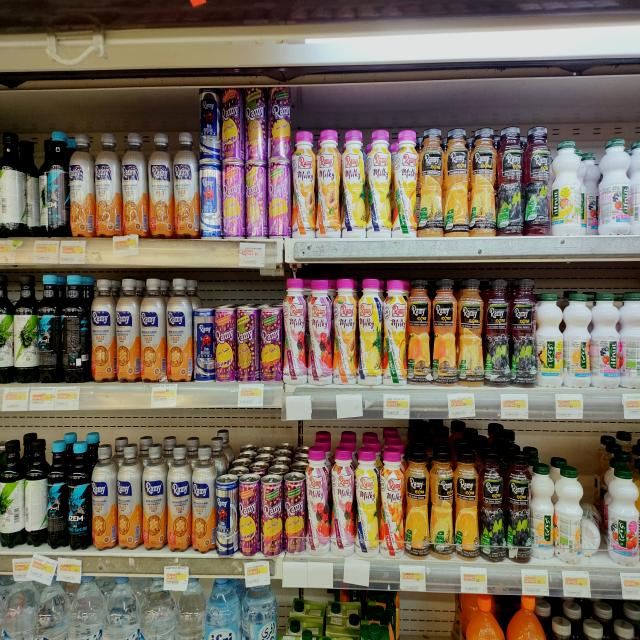CJus Ananas 24 CL: (246, 88, 267, 165), (238, 308, 258, 380), (246, 168, 266, 236)
CJus Orange 24 CL: (225, 90, 244, 167), (239, 477, 258, 554), (216, 308, 236, 381), (224, 167, 245, 236)
CJus mangue 24 CL: (284, 473, 305, 553), (270, 88, 292, 164), (270, 171, 292, 238), (262, 311, 282, 381), (262, 480, 280, 547)
IZEM: (32, 134, 70, 232), (0, 132, 26, 231), (25, 435, 49, 536), (64, 282, 88, 380), (2, 443, 26, 541), (42, 278, 62, 382), (71, 438, 90, 544), (15, 277, 38, 363), (53, 444, 68, 534), (2, 282, 14, 374)
Ifruit: (603, 463, 640, 562), (550, 138, 583, 233), (596, 139, 629, 230), (538, 292, 566, 386), (594, 295, 623, 383), (567, 293, 593, 385), (574, 148, 600, 234), (559, 464, 582, 559), (618, 289, 640, 387), (537, 464, 554, 551), (626, 133, 640, 232)
PET Milky Peche 30 CL ramy: (294, 133, 317, 238), (335, 279, 357, 384), (321, 134, 339, 240)
RAMY EXTRA orange 300 CL: (444, 130, 468, 234), (473, 131, 496, 233), (408, 454, 430, 560), (432, 457, 454, 558), (456, 457, 478, 557), (423, 130, 443, 238)
RAMY EXTRA peche 300 CL: (436, 278, 458, 382), (462, 280, 484, 384), (410, 279, 432, 379)
RAMY EXTRA raisins 300 CL: (480, 454, 506, 558), (500, 128, 524, 232), (486, 280, 510, 383), (513, 281, 535, 387), (527, 129, 548, 233), (510, 454, 530, 560)
Ramy Miel: (97, 136, 123, 235), (143, 444, 168, 546), (176, 135, 200, 240), (142, 281, 166, 383), (93, 446, 117, 546), (168, 281, 192, 378), (149, 134, 171, 239), (74, 135, 96, 239), (125, 134, 147, 236), (116, 277, 138, 379), (171, 443, 191, 550), (120, 443, 140, 548), (95, 282, 116, 380)
Ramy milky Mangue 30CL: (395, 132, 418, 242), (385, 280, 407, 383)
Ramy milky ananas 30CL: (342, 132, 367, 238), (356, 450, 378, 556), (370, 132, 391, 240), (361, 280, 382, 384)
Ramy milky fraise 30CL: (381, 453, 404, 556)
Ramy milky fraise framboise 30CL: (307, 448, 330, 556), (282, 279, 307, 377), (310, 280, 332, 385), (333, 450, 354, 551)
ramy red buffalo: (192, 308, 214, 378), (200, 94, 221, 165), (217, 479, 236, 553), (203, 165, 221, 238)
